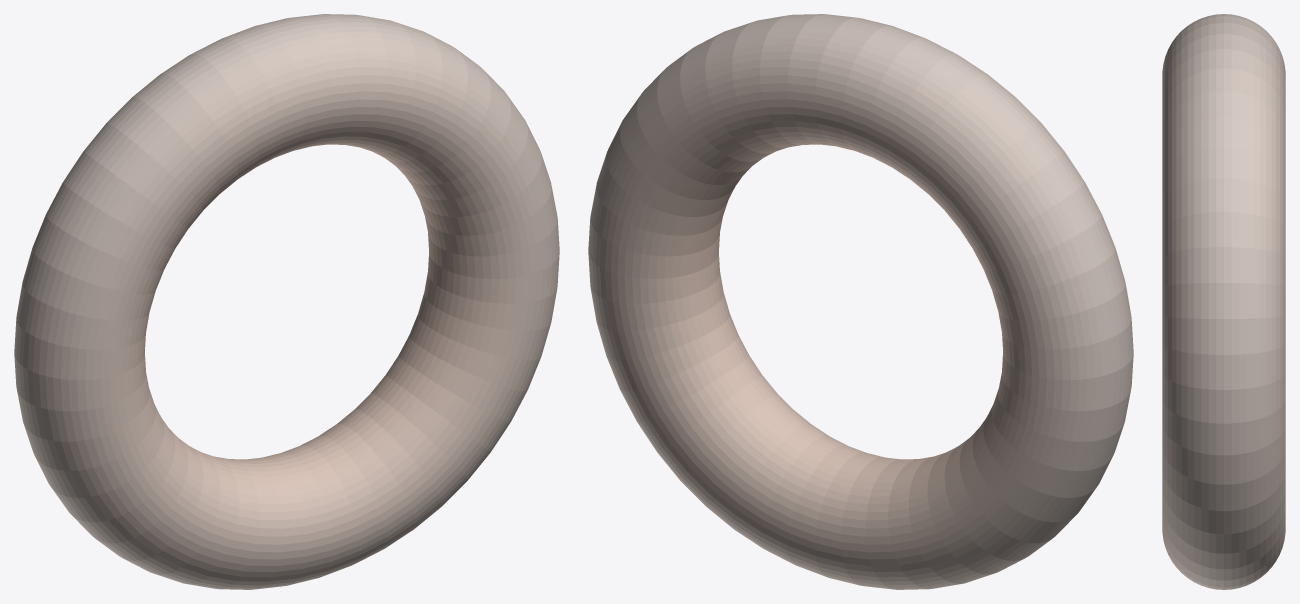
The picture shows the model from 3 angles, left to right: view 1: azimuth 30°, elevation 25°; view 2: azimuth 150°, elevation 25°; view 3: azimuth 270°, elevation 25°; orthographic projection. The views are drawn at different scales.
Parts seen in each view (by area): view 1: world; view 2: world; view 3: world.
Part boxes in pixels (x1=…): world: x1=14, y1=14, x2=559, y2=589; world: x1=588, y1=14, x2=1133, y2=589; world: x1=1162, y1=14, x2=1285, y2=589.
Bounding box in the file's own units: 28 × 27.94 × 5.99.
